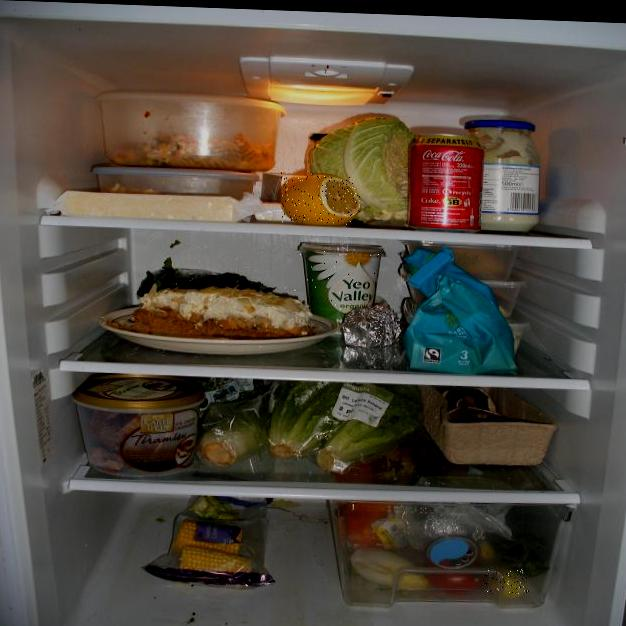lemon: (281, 173, 360, 225), (486, 568, 531, 596)
yoghurt: (299, 239, 383, 308)
